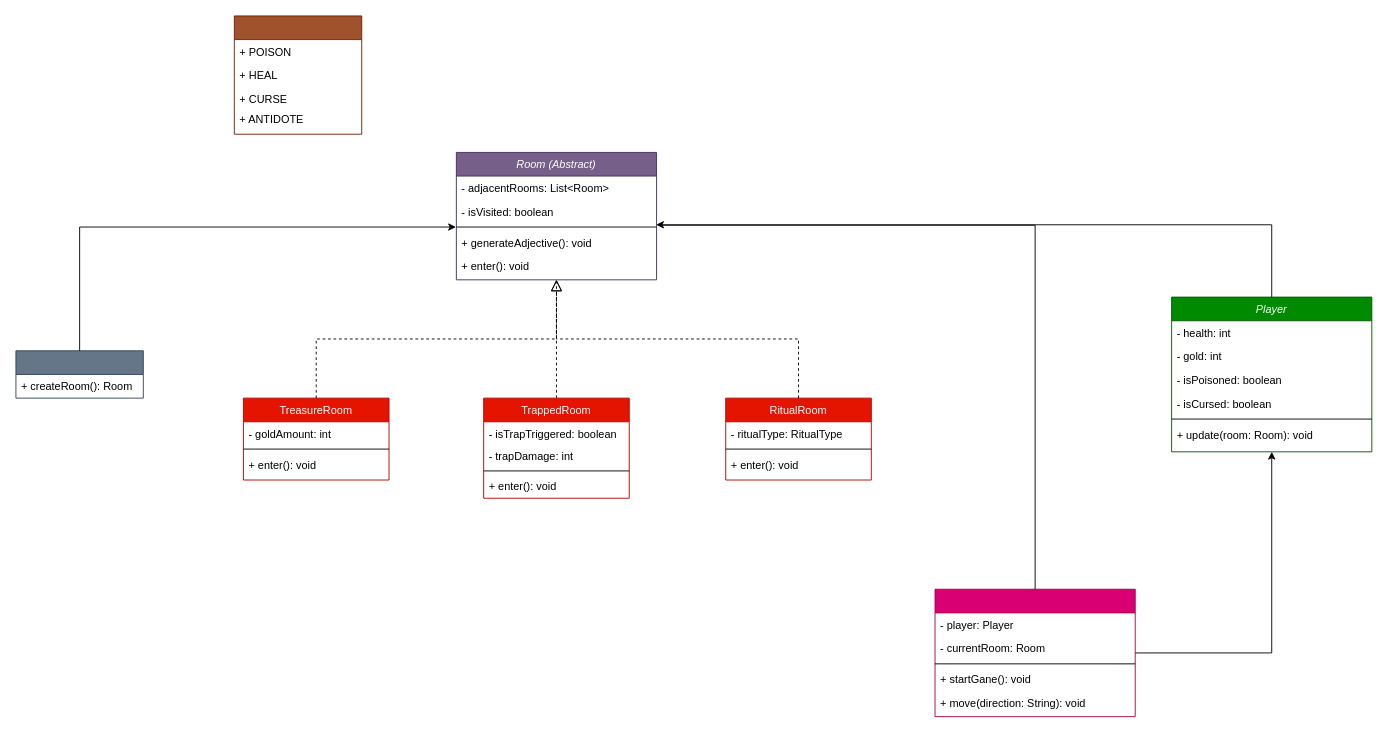
Some shapes in this 1388 by 733 pixel diagram are drawn without their labels. The box of each missing label's shape, as (x1, y1, x2, y2) in pixels:
Game: (934, 588, 1135, 717)
RitualType (Enum): (233, 15, 362, 134)
RoomFactory: (15, 350, 143, 398)
